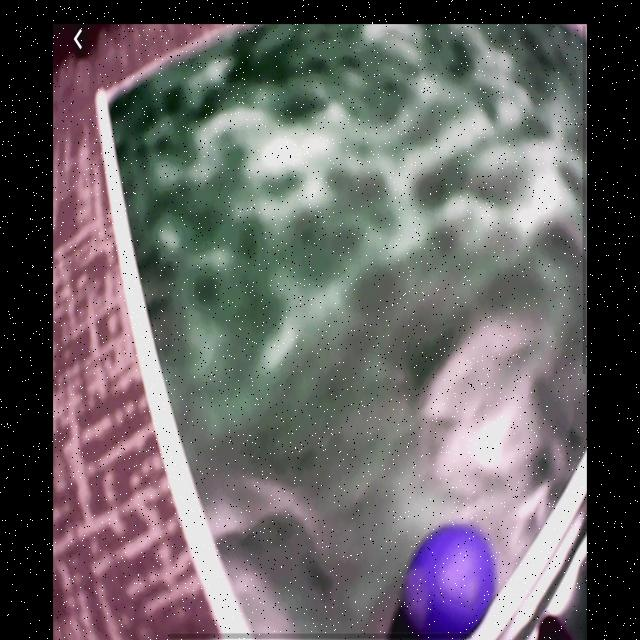ball: (404, 527, 499, 639)
